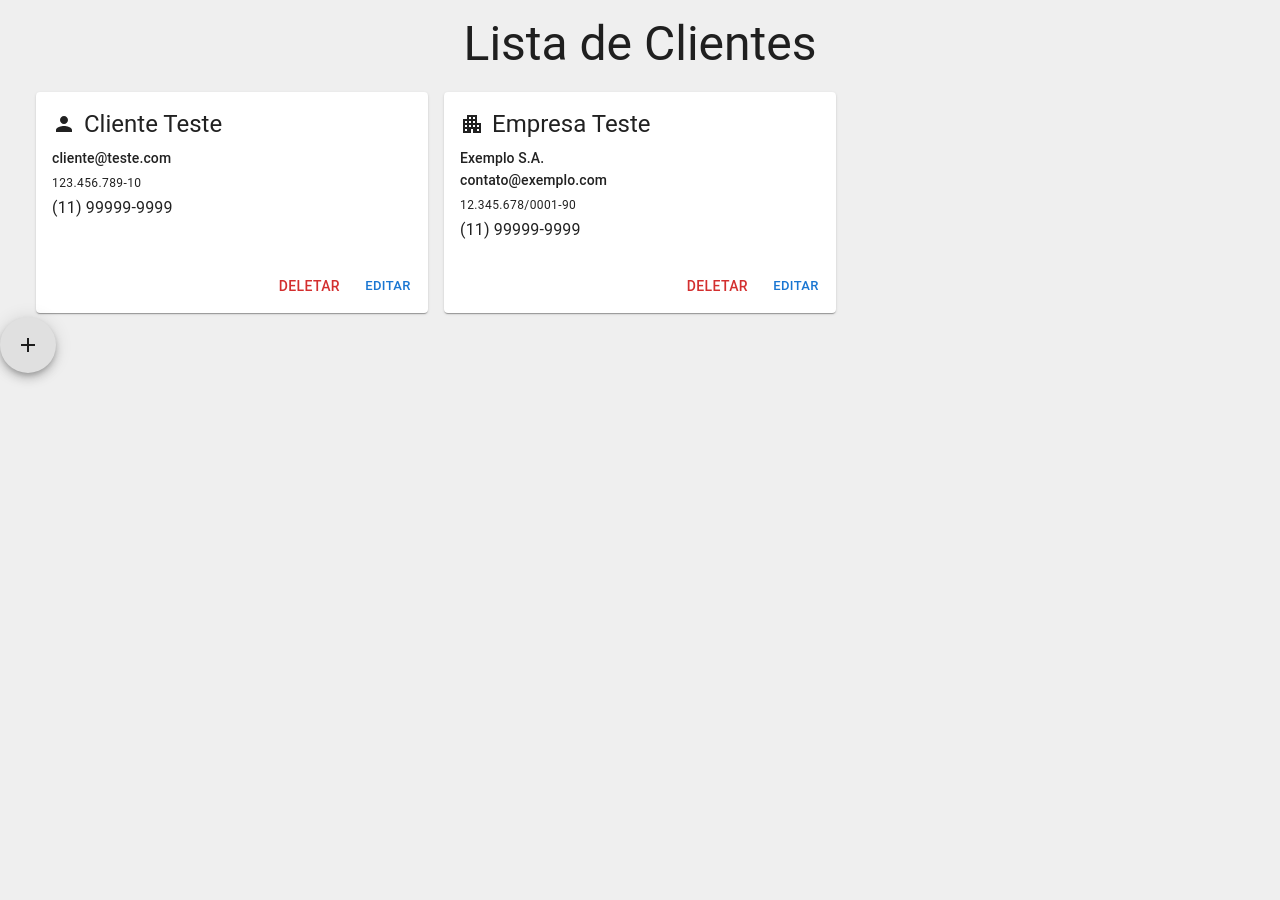
Test: Page: ClientList › Fetch: Delete › should delete client as error
Expected: the heading "Cliente Teste" is shown, x1=52 y1=110 x2=222 y2=138
Step 1. Click the button "Deletar" below "123.456.789-10" → (309, 287), box x1=271 y1=268 x2=348 y2=305
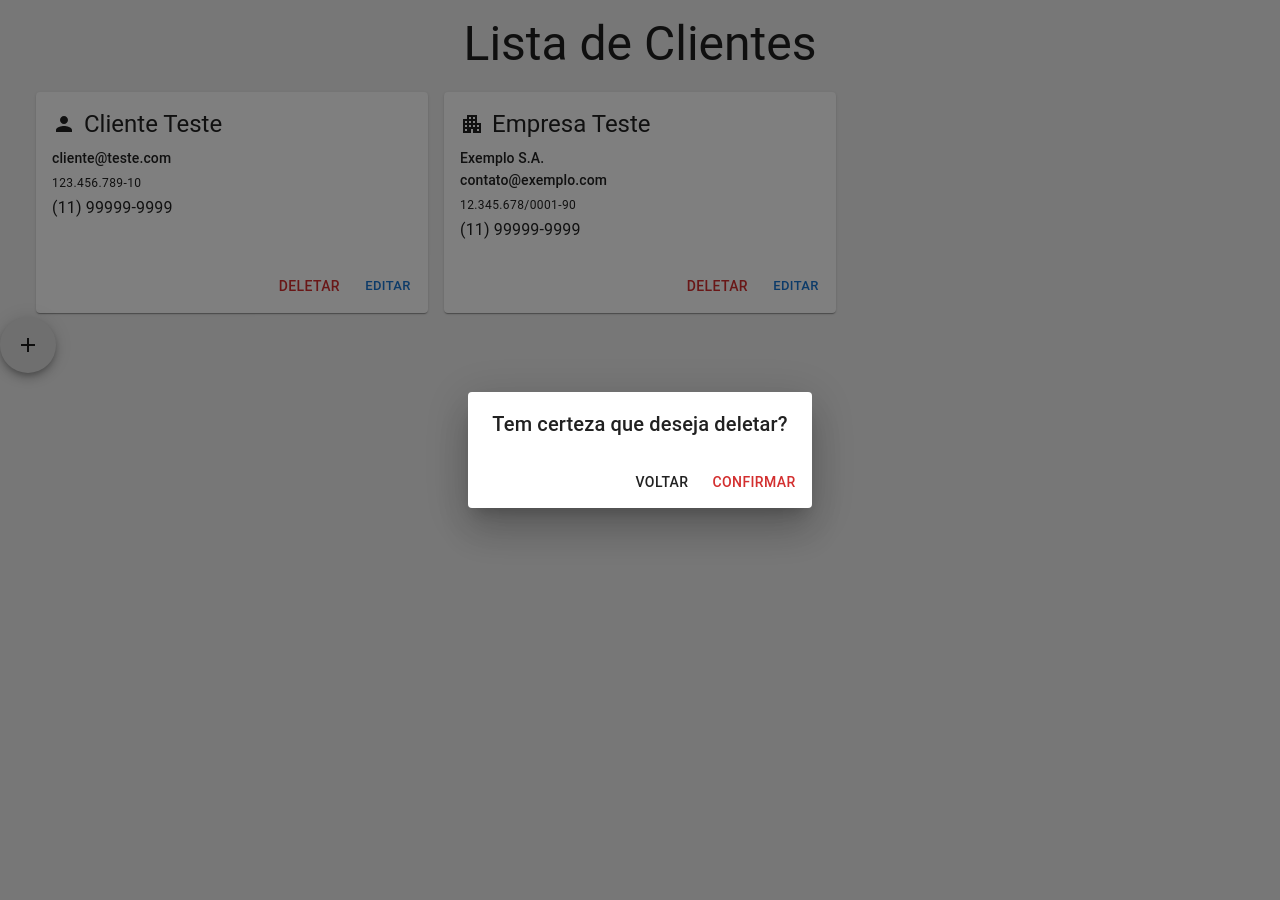
Step 2. Click the button "CONFIRMAR" → (754, 482), box x1=704 y1=464 x2=804 y2=500
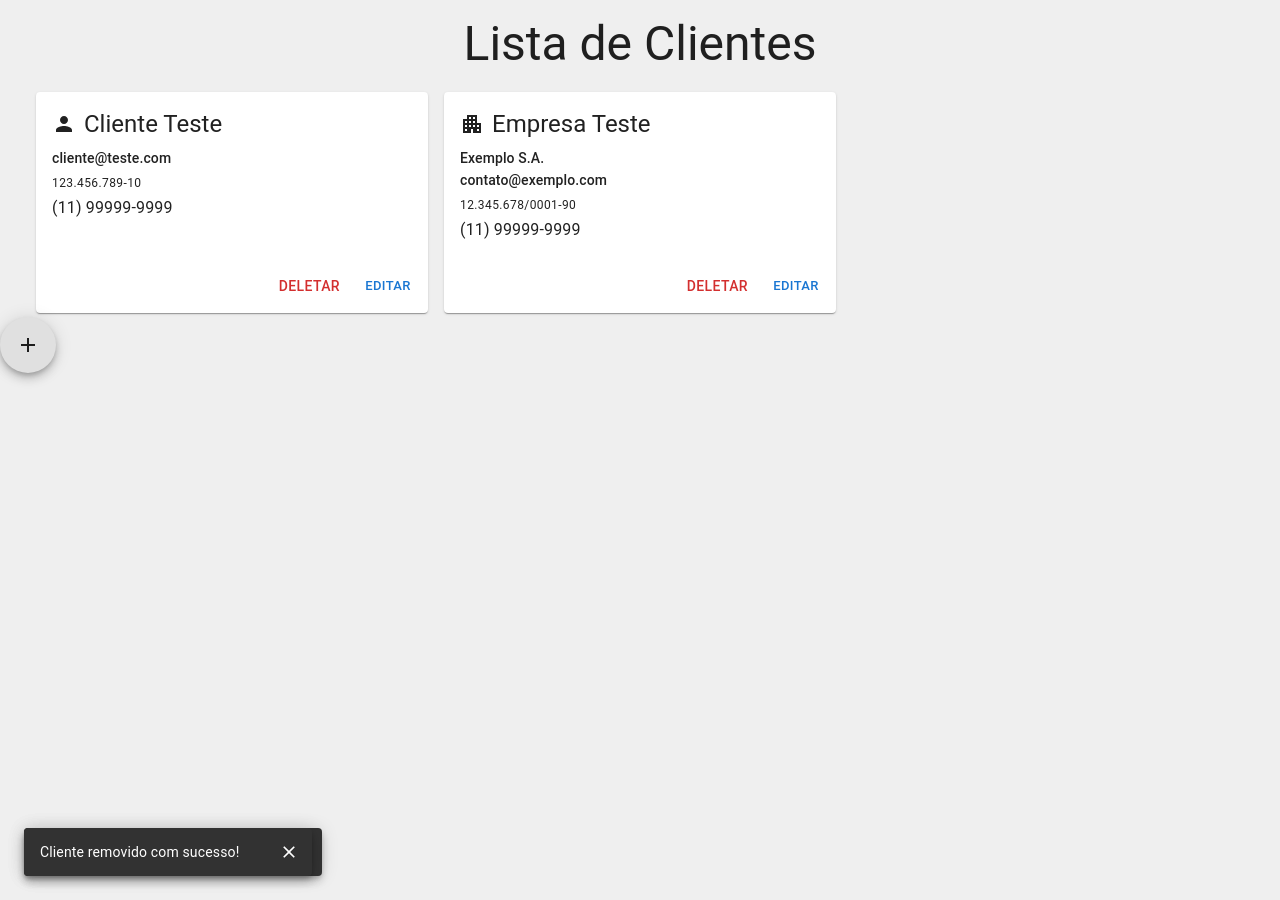
Now the text "Ocorreu um erro ao remover cliente." is shown, box x1=40 y1=844 x2=268 y2=860
